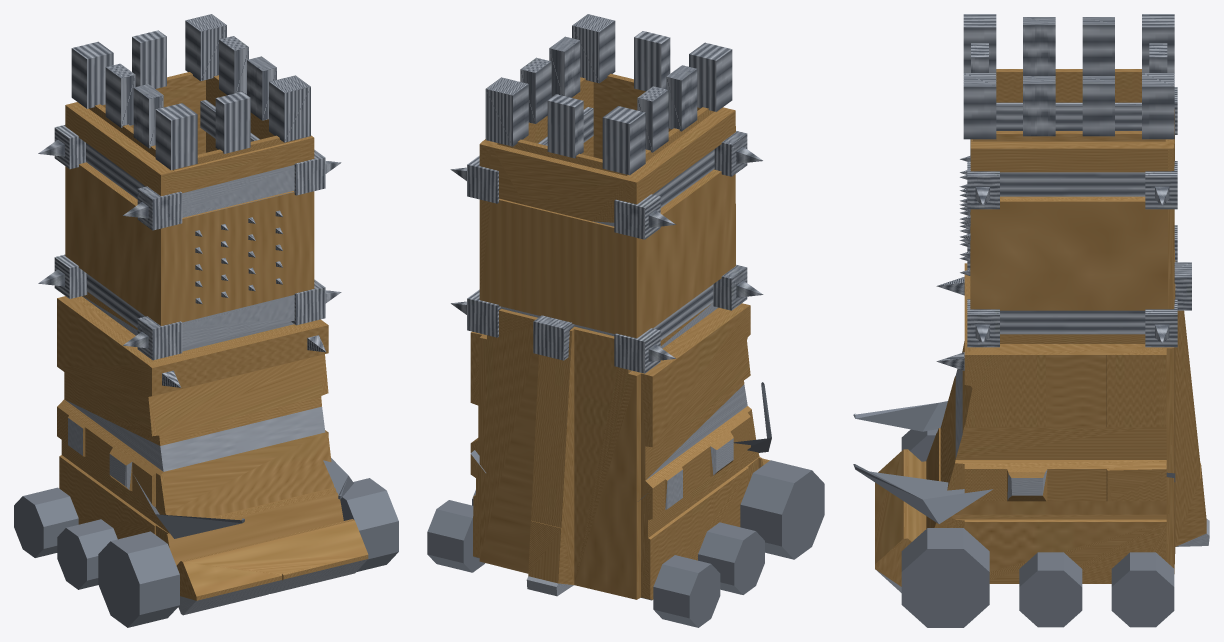
The model's file is ae_siege_tower_open_iron_lod0.glb.
The picture shows the model from 3 angles, left to right: view 1: azimuth 30°, elevation 25°; view 2: azimuth 150°, elevation 25°; view 3: azimuth 270°, elevation 25°; orthographic projection. The views are drawn at different scales.
Parts seen in each view (by area): view 1: siege_tower_open; view 2: siege_tower_open; view 3: siege_tower_open.
Boxes of the visible parts, bbox=[...] form: siege_tower_open: bbox=[14, 14, 398, 627]; siege_tower_open: bbox=[427, 14, 824, 627]; siege_tower_open: bbox=[853, 14, 1209, 627].
Size of the model in its own units: 46.39 by 82.22 by 51.97.
4 materials, 3 textured.
